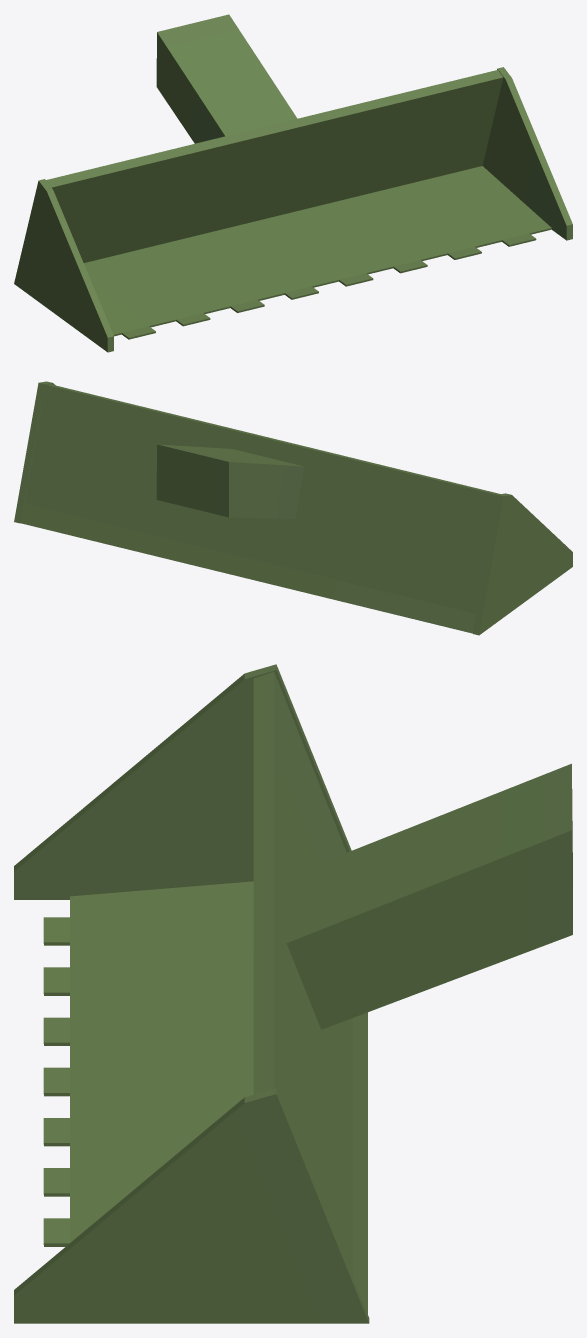
File: HarvesterPart_01.fbx
3 views of the same model, one above another, from view 1: azimuth 30°, elevation 25°; view 2: azimuth 150°, elevation 25°; view 3: azimuth 270°, elevation 25° (orthographic). The views are drawn at different scales.
Visible parts, largest first — view 1: HarvesterPart_01; view 2: HarvesterPart_01; view 3: HarvesterPart_01.
Part boxes in pixels (<box>): HarvesterPart_01: <box>14,14,572,352</box>; HarvesterPart_01: <box>14,381,572,635</box>; HarvesterPart_01: <box>14,664,572,1323</box>.
Bounding box in the file's own units: 2.9 × 0.9814 × 1.59.
